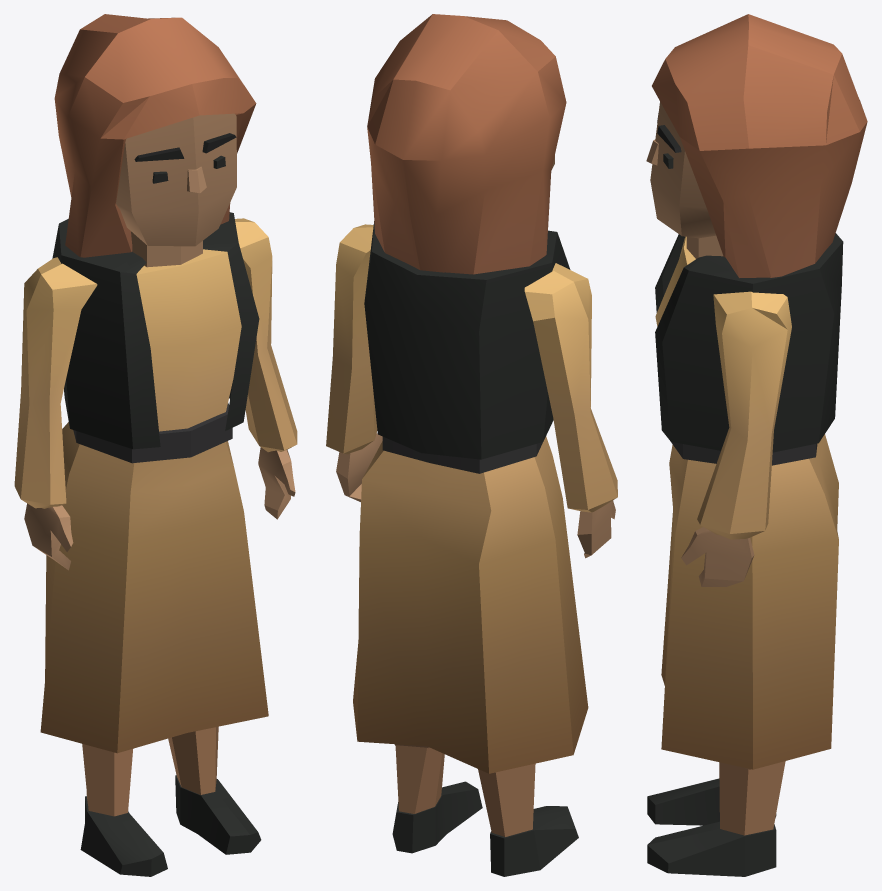
Rendered from PeasantFemale_1.fbx.
3 views of the same model, side by side, from view 1: azimuth 30°, elevation 25°; view 2: azimuth 150°, elevation 25°; view 3: azimuth 270°, elevation 25° (orthographic). The views are drawn at different scales.
Visible parts, largest first — view 1: PeasantFemale_1; view 2: PeasantFemale_1; view 3: PeasantFemale_1.
Boxes of the visible parts, x1,y1,x2,y2 form: PeasantFemale_1: (14,14,297,876); PeasantFemale_1: (326,14,617,876); PeasantFemale_1: (646,14,867,876).
Size of the model in its own units: 38.56 by 108 by 26.51.
